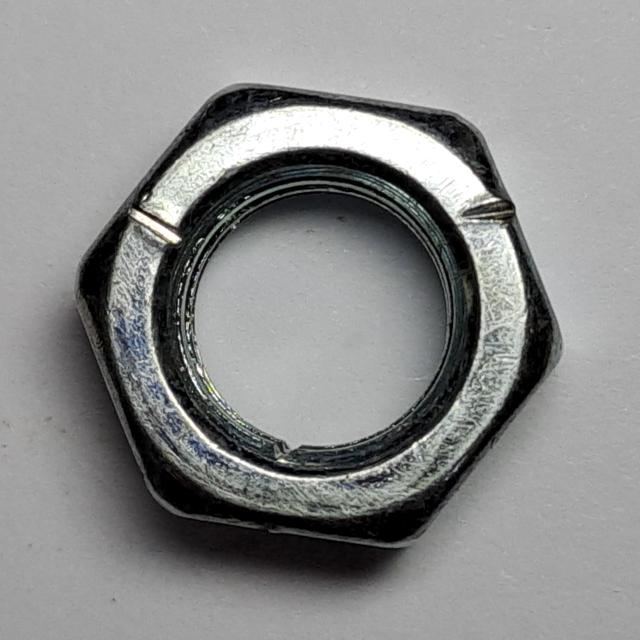Scratches: (59, 66, 572, 561)
